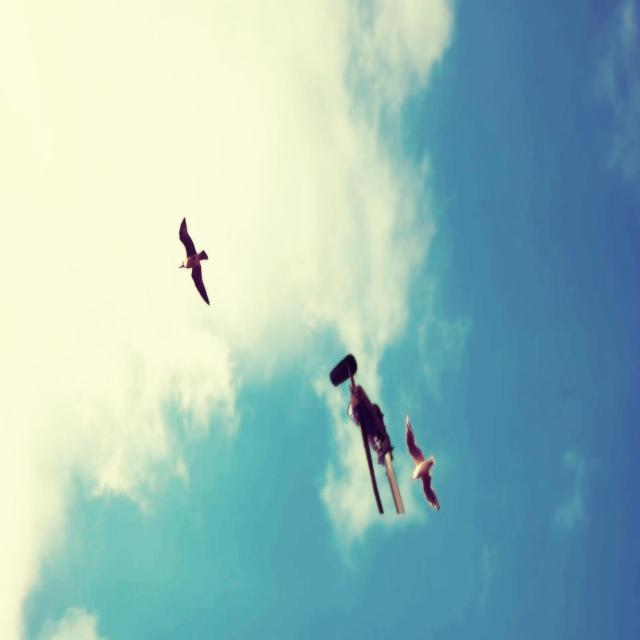airplane: (329, 353, 405, 515)
